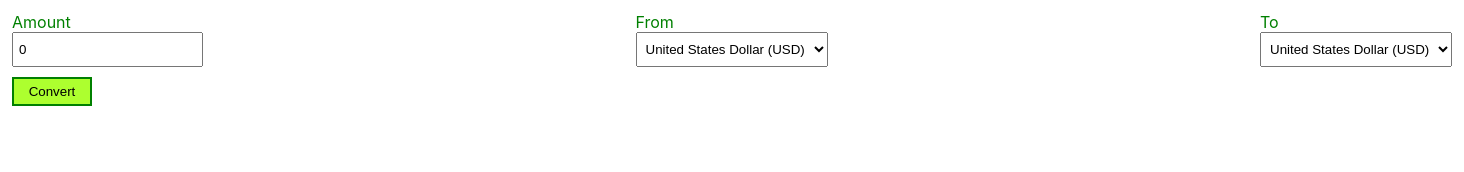
Scenario: CurrencyConverter Component › displays same amount if currencies are the same
The image size is (1464, 172).
Step 1. Replace the text in the number field with test id "amount" with "50" → (108, 50), box [12,32,203,67]
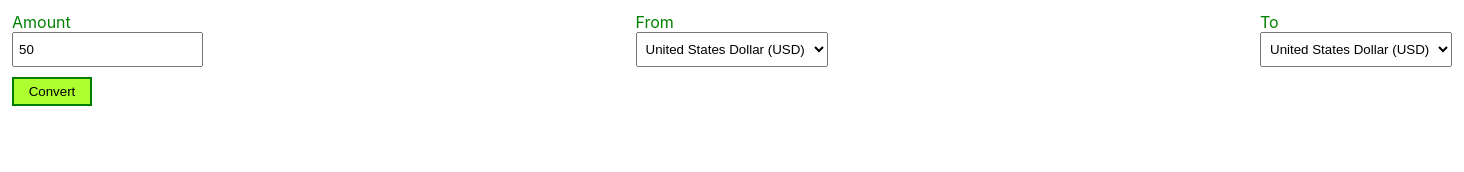
Step 2. Select "United States Dollar (USD)" in the dropdown with test id "from-currency" → (732, 50), box [636,32,828,67]
Step 3. Select "United States Dollar (USD)" in the dropdown with test id "to-currency" → (1356, 50), box [1260,32,1452,67]
Step 4. Click the button "Convert" → (52, 92), box [12,77,92,106]
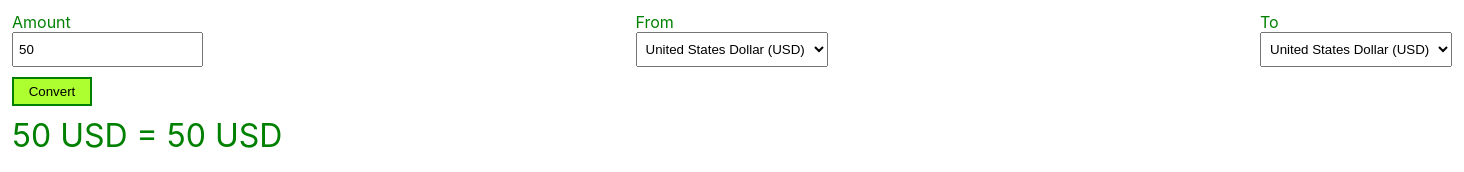
Expected: the text "50 USD = 50 USD" is shown, [12,116,282,155]
